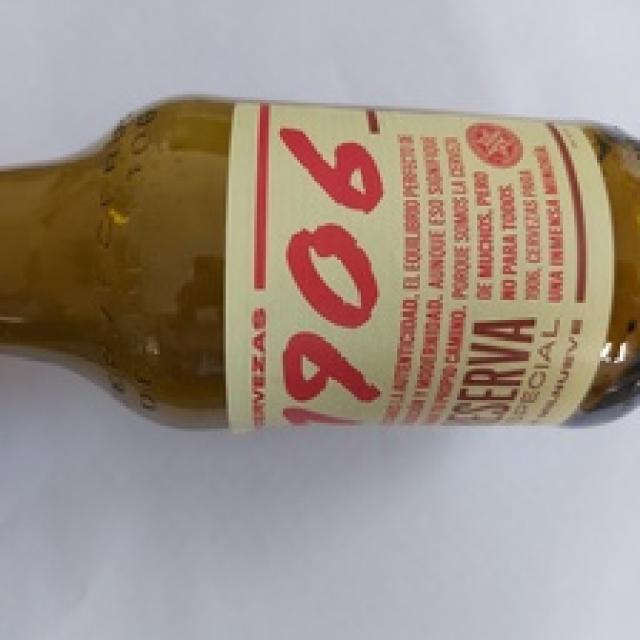Glass: (0, 96, 640, 425)
